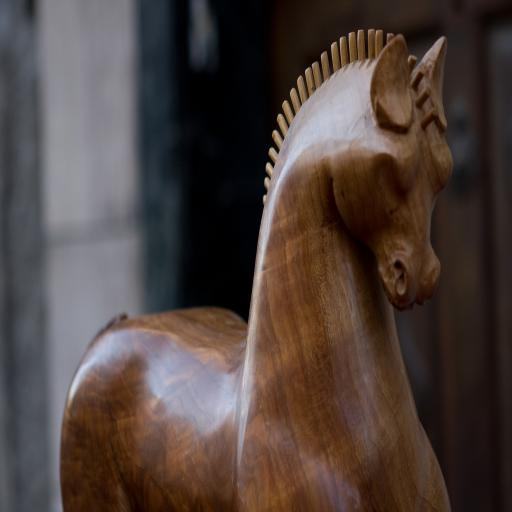horse: (60, 30, 452, 512)
